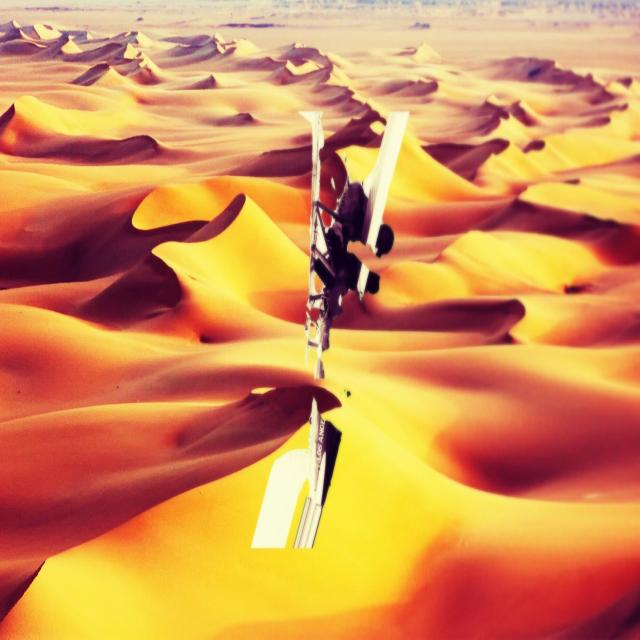airplane: (294, 109, 406, 500)
